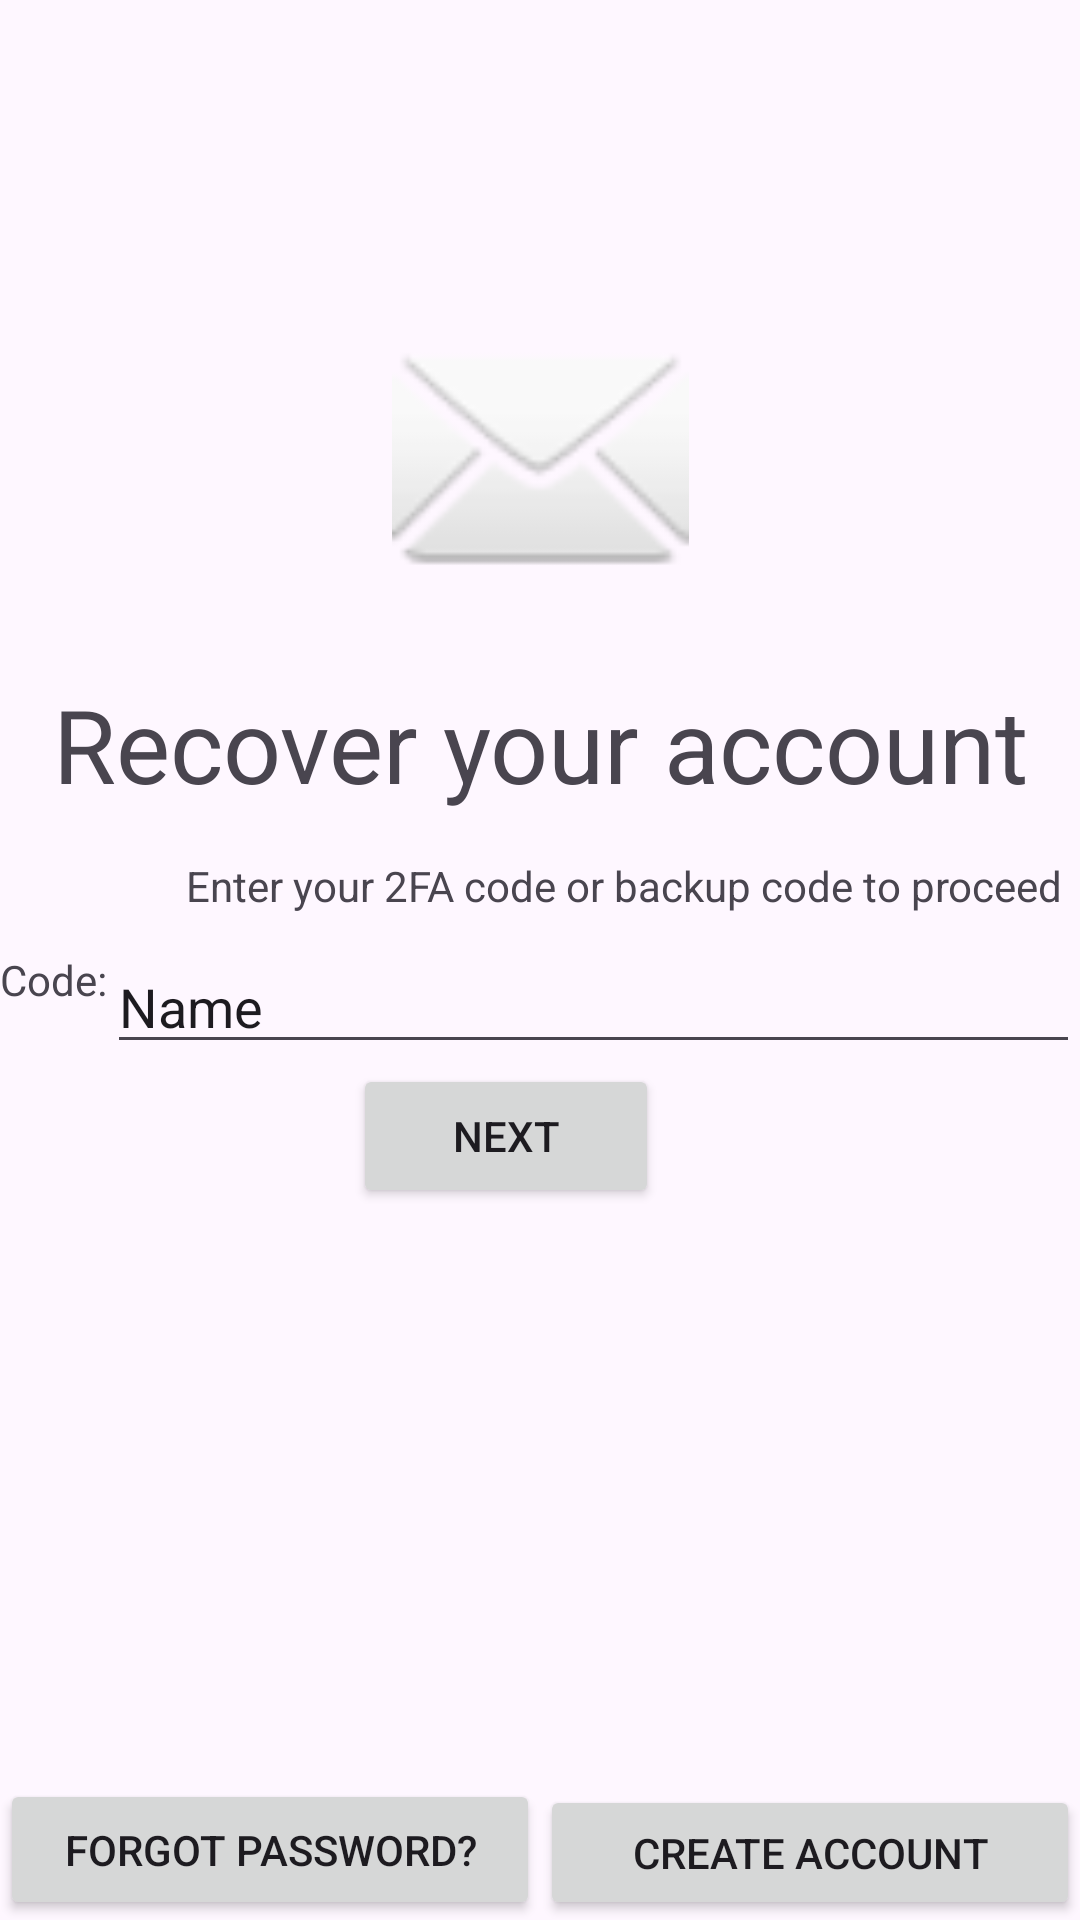

Named icons in this screenshot (1080px x 1920px) and their bounding boxes, (x1, y1, x2, y2):
email: (392, 360, 689, 564)
